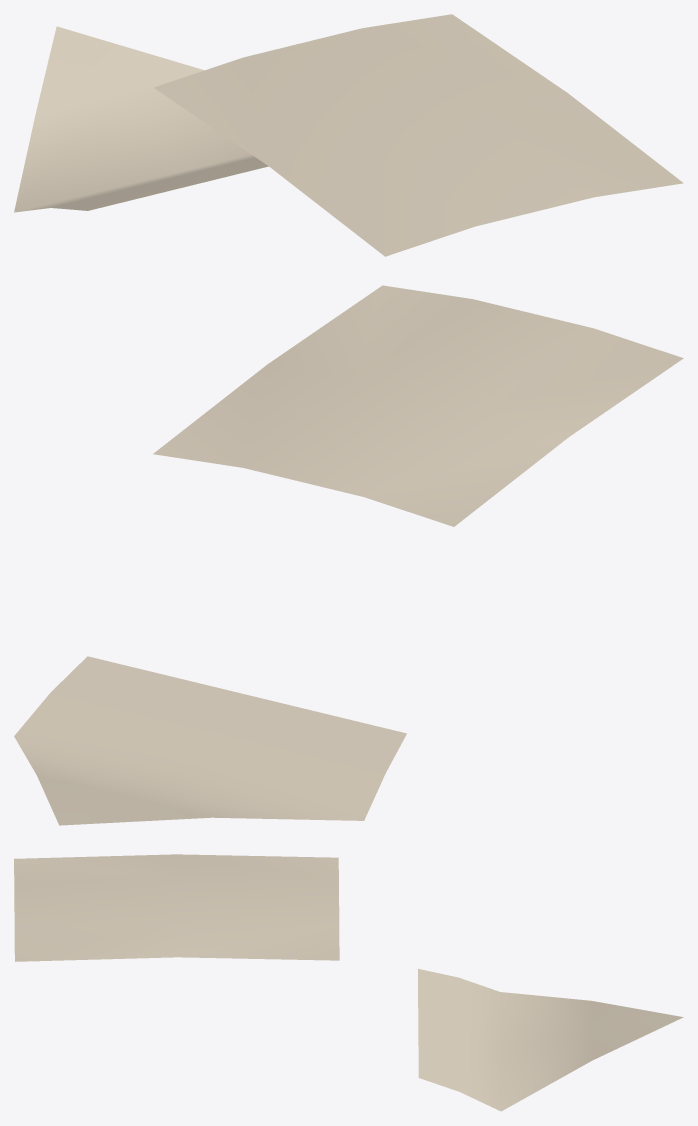
Rendered from cloth-base.glb.
3 renders of one model, top to bottom at view 1: azimuth 30°, elevation 25°; view 2: azimuth 150°, elevation 25°; view 3: azimuth 270°, elevation 25°, orthographic. The views are drawn at different scales.
Bounding box in the file's own units: 0.9678 × 0.5728 × 2.29.
